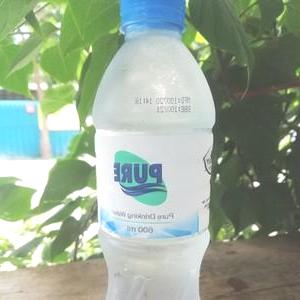bottle: (90, 0, 220, 300)
